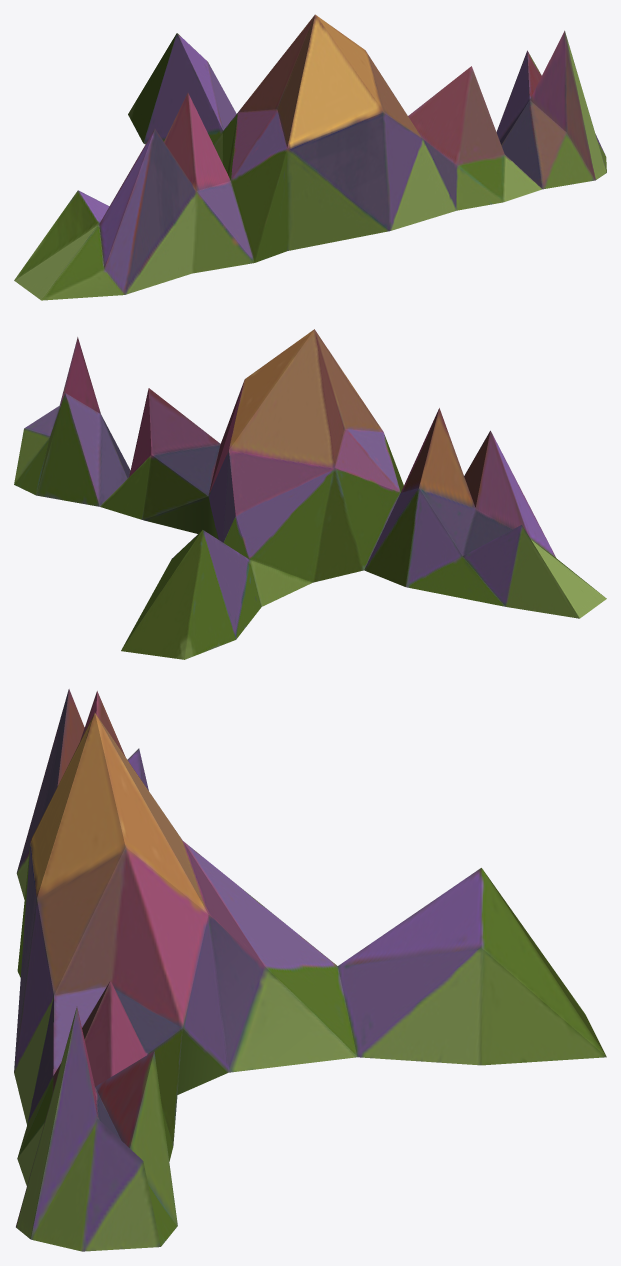
Rendered from wall_t_cap_deco.fbx.
3 renders of one model, top to bottom at view 1: azimuth 30°, elevation 25°; view 2: azimuth 150°, elevation 25°; view 3: azimuth 270°, elevation 25°, orthographic. The views are drawn at different scales.
Visible parts, largest first — view 1: wall_t_cap_deco; view 2: wall_t_cap_deco; view 3: wall_t_cap_deco.
Part boxes in pixels (x1,y1,x2,y2): wall_t_cap_deco: (14, 14, 606, 300); wall_t_cap_deco: (14, 329, 606, 659); wall_t_cap_deco: (14, 689, 606, 1251).
Size of the model in its own units: 0.0583 by 0.0204 by 0.034.
